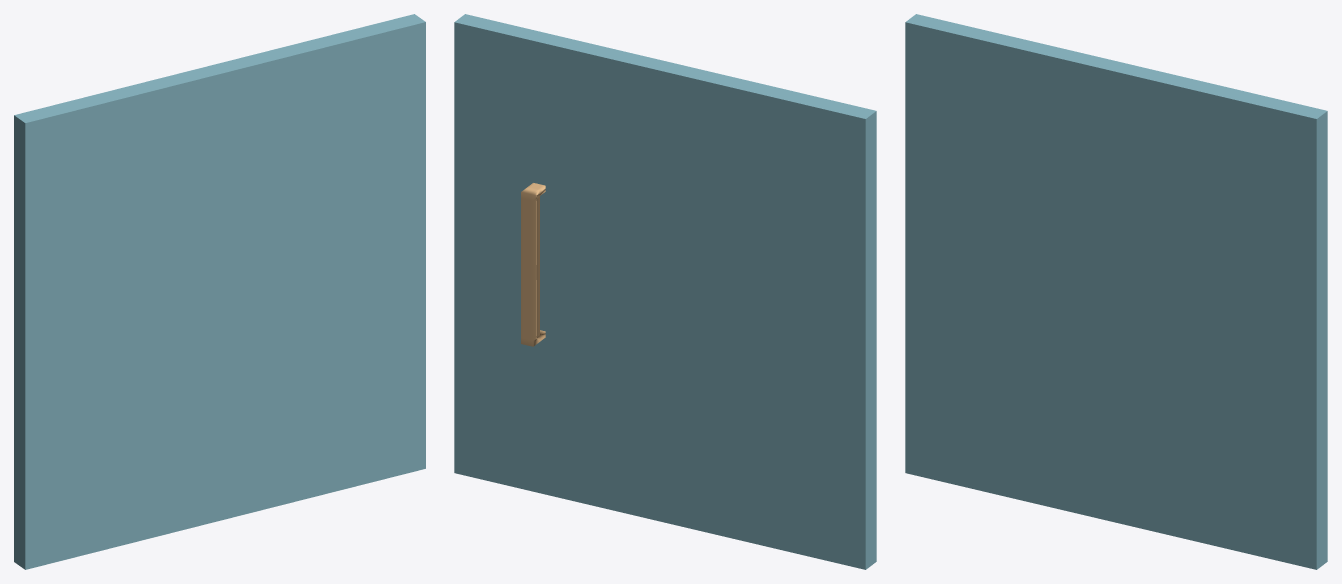
The model's file is Puerta_fregadero2.fbx.
3 renders of one model, left to right at view 1: azimuth 30°, elevation 25°; view 2: azimuth 150°, elevation 25°; view 3: azimuth 330°, elevation 25°, orthographic.
Visible parts, largest first — view 1: Puerta.011; view 2: Puerta.011; view 3: Puerta.011.
Part boxes in pixels (<box>): Puerta.011: <box>14,14,425,569</box>; Puerta.011: <box>454,14,876,569</box>; Puerta.011: <box>905,14,1327,569</box>.
Size of the model in its own units: 8.47 by 8.94 by 0.9581.
